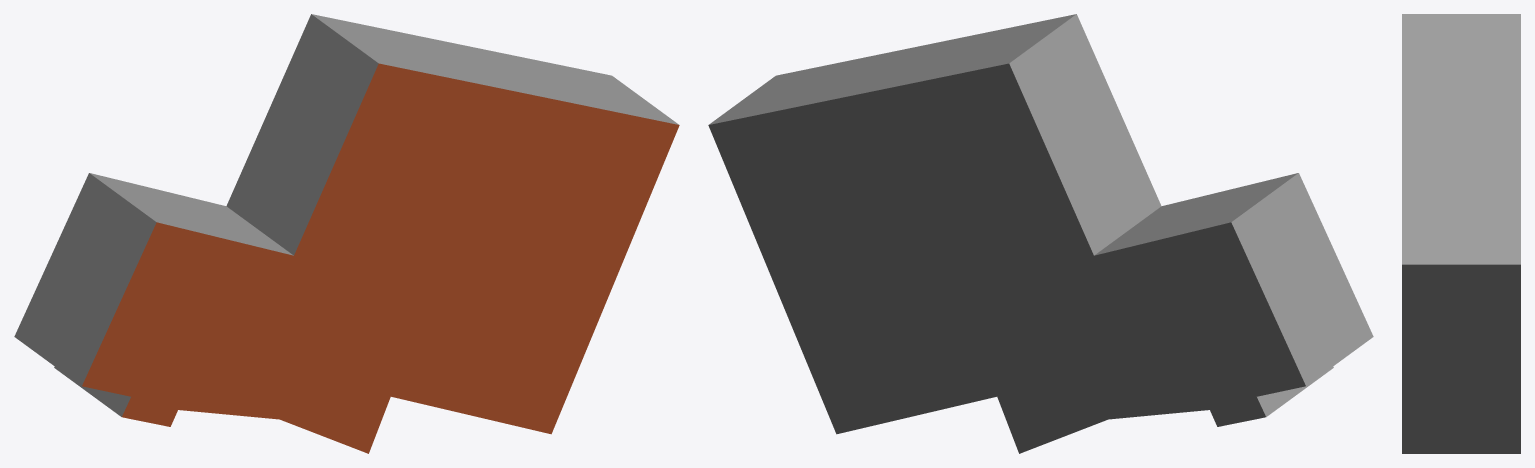
Rendered from construction_1903_assumed_A_Casa_h6m.obj.
The picture shows the model from 3 angles, left to right: view 1: azimuth 30°, elevation 25°; view 2: azimuth 150°, elevation 25°; view 3: azimuth 270°, elevation 25°; orthographic projection. The views are drawn at different scales.
Visible parts, largest first — view 1: construction_1903_assumed_A_Casa; view 2: construction_1903_assumed_A_Casa; view 3: construction_1903_assumed_A_Casa.
Boxes of the visible parts, box(x1,y1,x2,y2) form: construction_1903_assumed_A_Casa: box(14, 14, 679, 453); construction_1903_assumed_A_Casa: box(708, 14, 1373, 453); construction_1903_assumed_A_Casa: box(1402, 14, 1520, 453).
Bounding box in the file's own units: 30.64 × 20.23 × 6.
